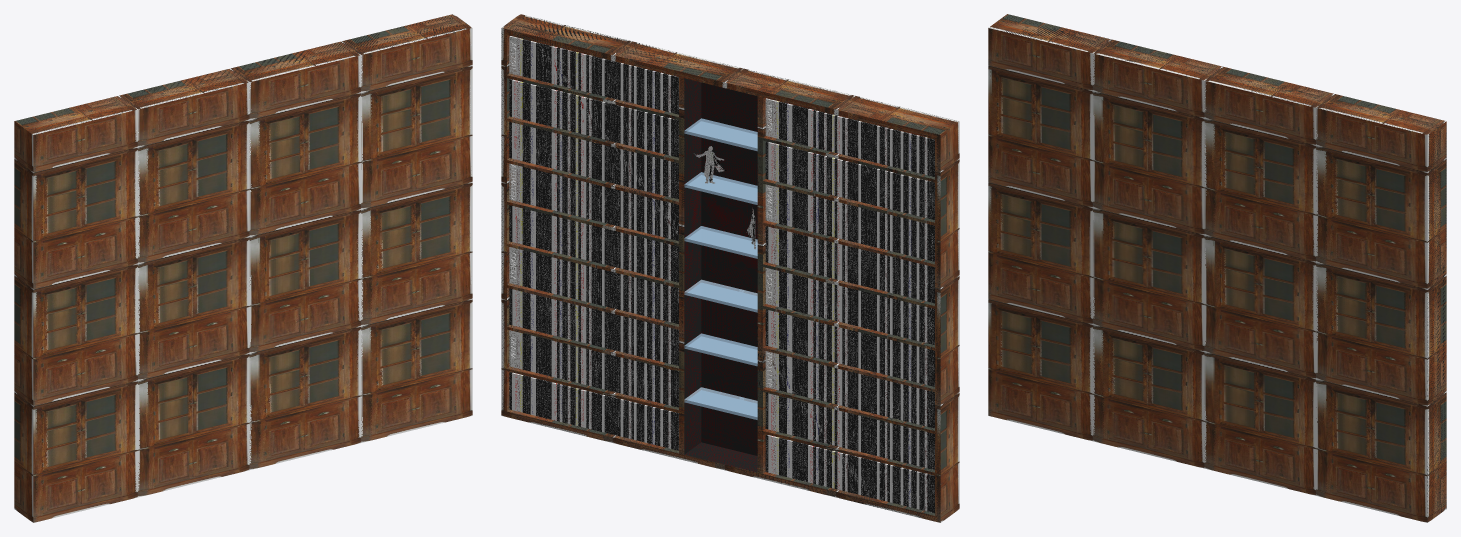
3 renders of one model, left to right at view 1: azimuth 30°, elevation 25°; view 2: azimuth 150°, elevation 25°; view 3: azimuth 330°, elevation 25°, orthographic.
Visible parts, largest first — view 1: mesh1_mesh1-geometry; view 2: mesh1_mesh1-geometry, mesh62_mesh62-geometry, mesh55_mesh55-geometry, mesh63_mesh63-geometry, mesh70_mesh70-geometry, mesh71_mesh71-geometry, mesh72_mesh72-geometry, mesh66_mesh66-geometry, mesh58_mesh58-geometry, mesh60_mesh60-geometry, mesh68_mesh68-geometry, mesh56_mesh56-geometry (+7 smaller); view 3: mesh1_mesh1-geometry.
Boxes of the visible parts, <box> form: mesh1_mesh1-geometry: <box>14,14,472,522</box>; mesh1_mesh1-geometry: <box>501,14,959,522</box>; mesh62_mesh62-geometry: <box>509,372,678,450</box>; mesh55_mesh55-geometry: <box>509,79,678,157</box>; mesh63_mesh63-geometry: <box>765,434,934,513</box>; mesh70_mesh70-geometry: <box>765,141,934,219</box>; mesh71_mesh71-geometry: <box>765,98,934,176</box>; mesh72_mesh72-geometry: <box>509,36,678,114</box>; mesh66_mesh66-geometry: <box>765,309,934,386</box>; mesh58_mesh58-geometry: <box>509,205,678,282</box>; mesh60_mesh60-geometry: <box>509,288,678,365</box>; mesh68_mesh68-geometry: <box>765,226,934,303</box>; mesh56_mesh56-geometry: <box>509,122,678,199</box>; mesh1_mesh1-geometry: <box>988,14,1446,522</box>.
Bounding box in the file's own units: 0.763 × 0.6438 × 0.0572.
